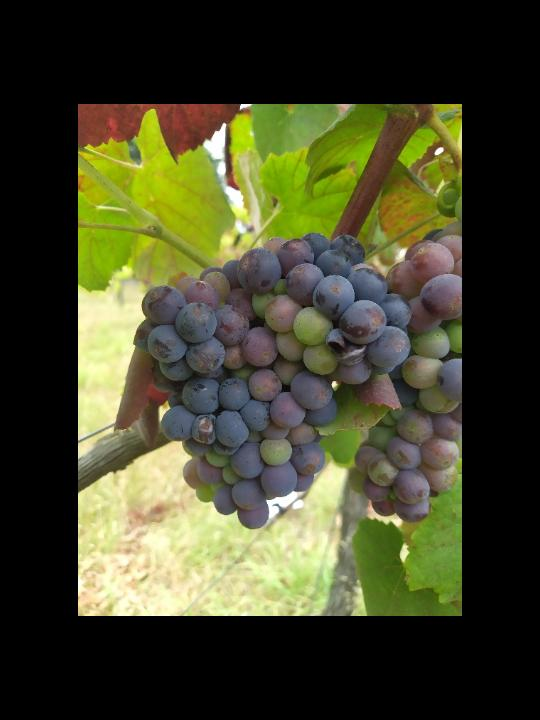grape: (131, 233, 415, 533)
